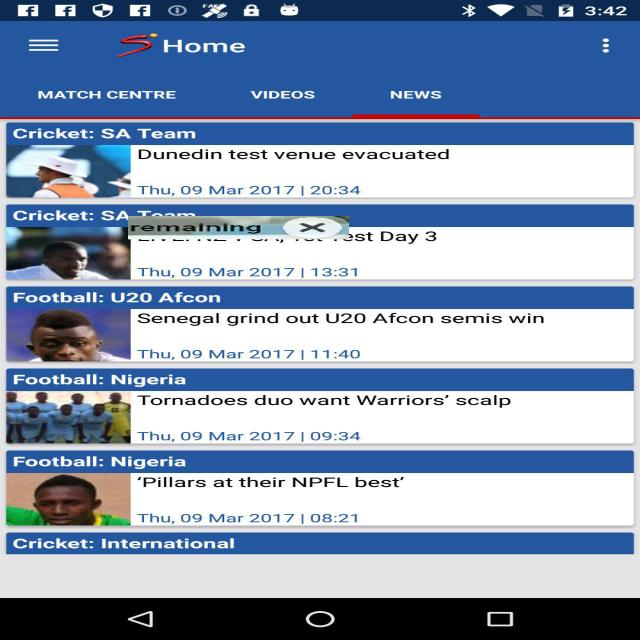misdirection: (128, 216, 349, 239)
